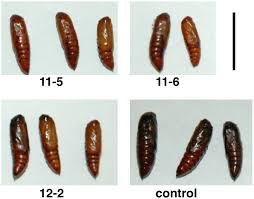pupa: (4, 9, 45, 77), (178, 111, 214, 180), (33, 106, 66, 177), (145, 9, 179, 75), (54, 7, 89, 69), (7, 115, 37, 184), (133, 108, 160, 181), (221, 112, 248, 183), (182, 10, 209, 70), (83, 115, 106, 182), (96, 7, 118, 75)
